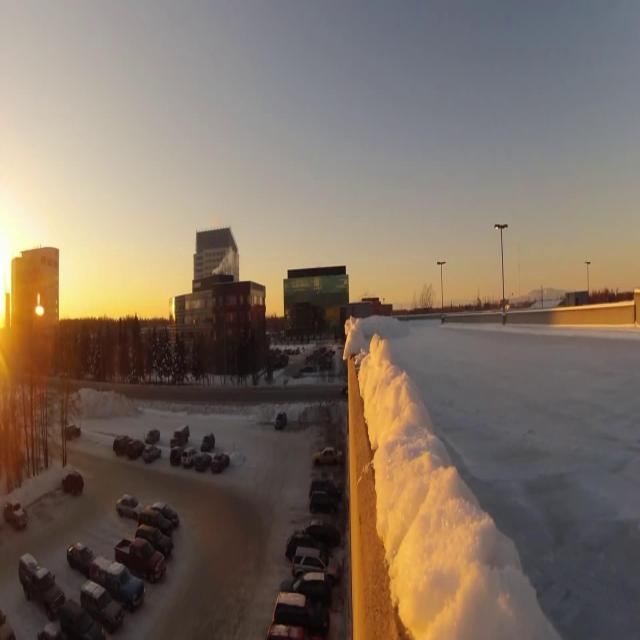Fire: (210, 250, 233, 274)
